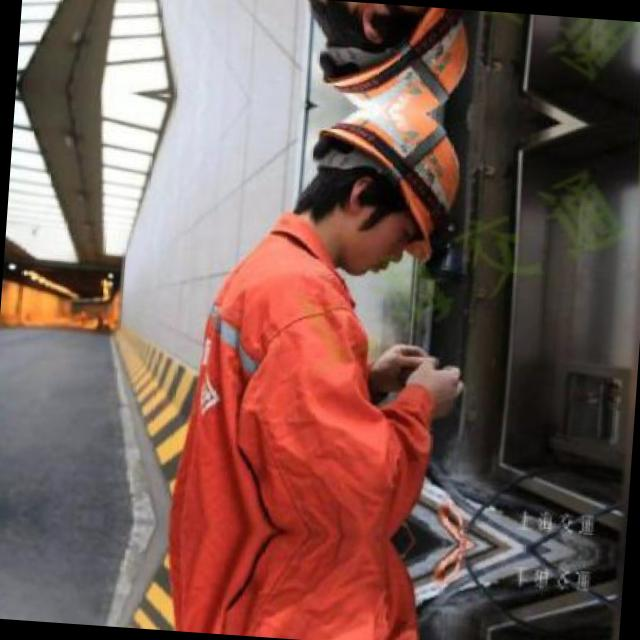helmet: (286, 103, 474, 289), (298, 0, 482, 118)
